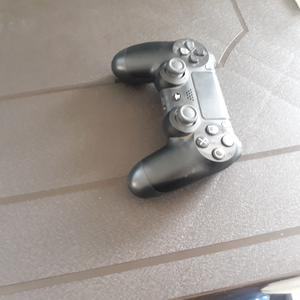controller: (111, 38, 241, 199)
